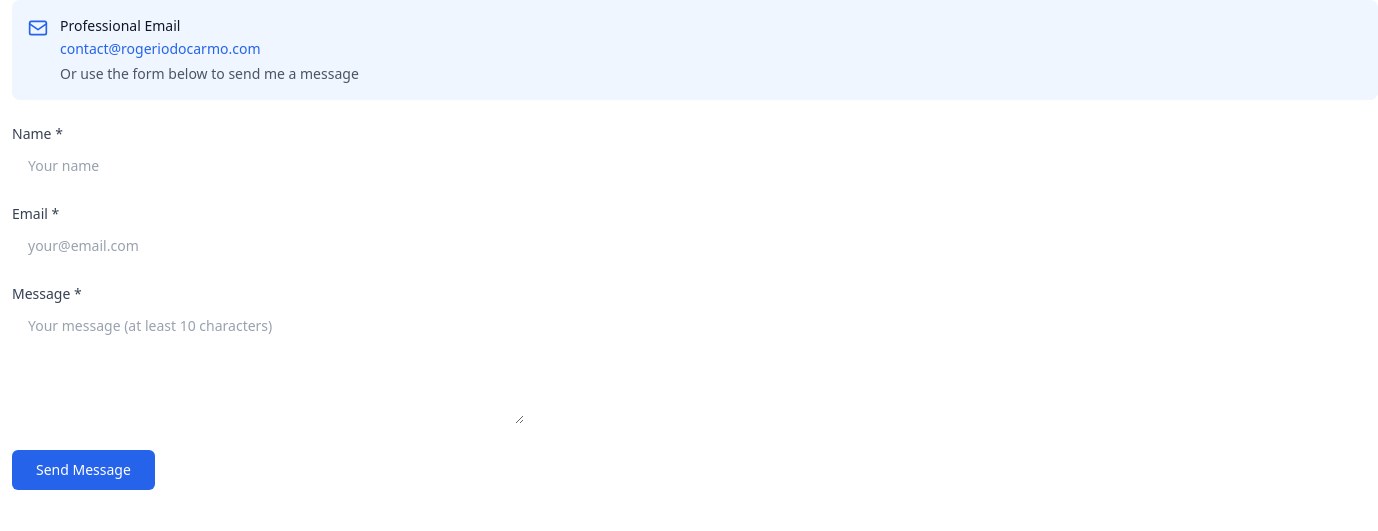
ContactForm Component › shows error inline below field on blur with invalid value
Type "bademail" into the field labelled "Email *" at (268, 246), box 12,228 -> 524,264
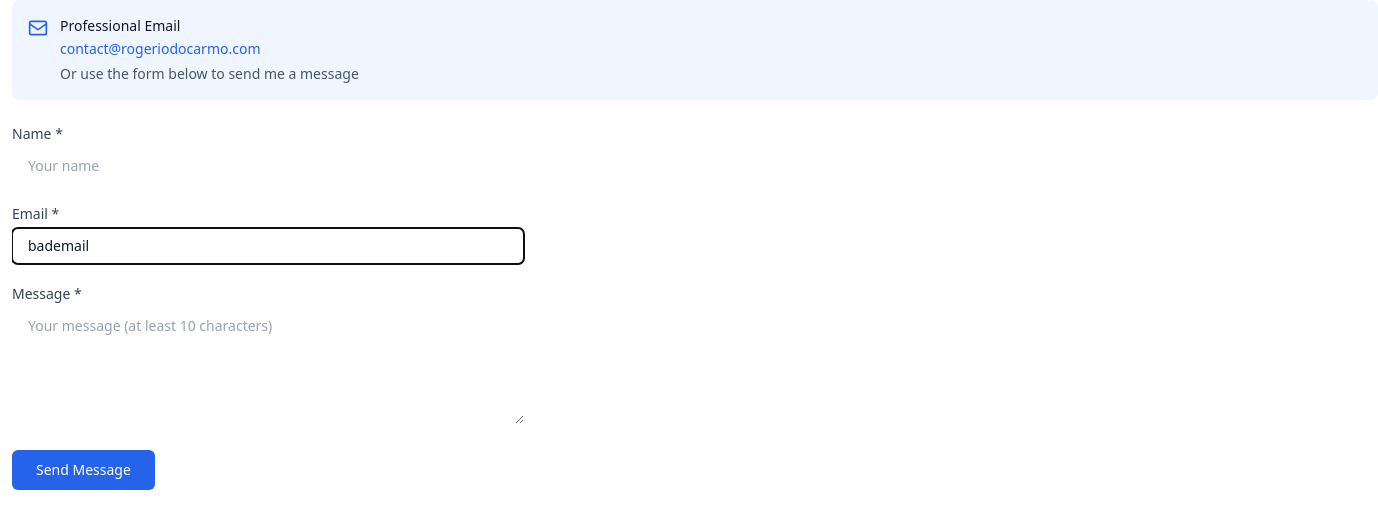
Press Tab
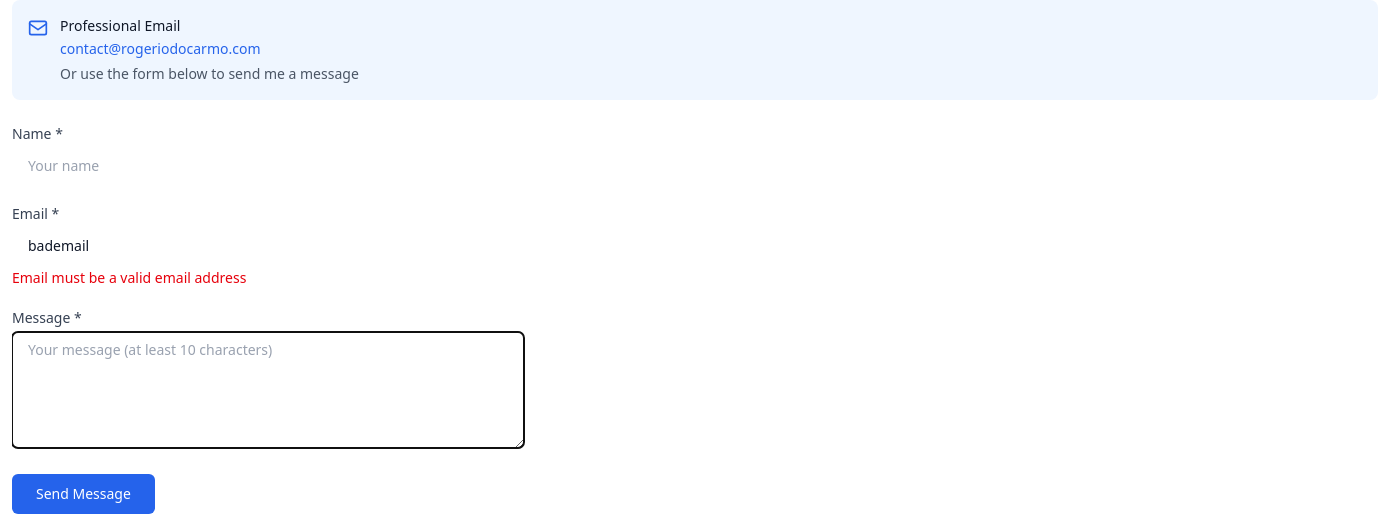
Result: the text "Email must be a valid email address" is shown at 12,268 -> 246,287
